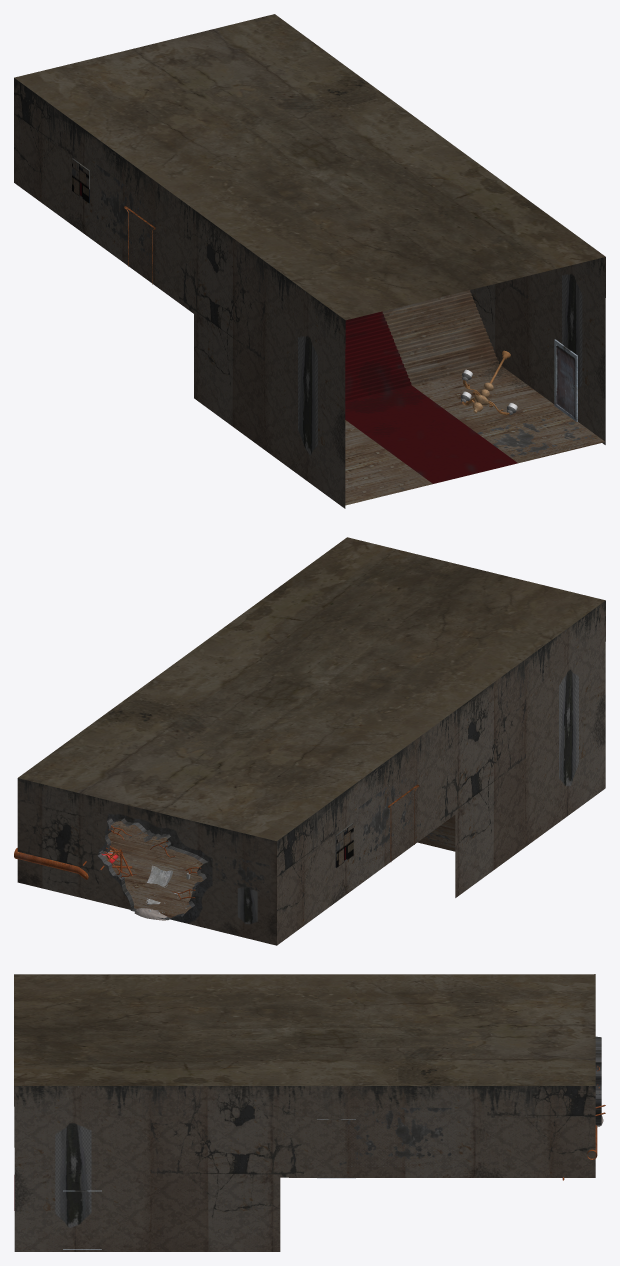
Rendered from ScenseVixod.FBX.
3 views of the same model, one above another, from view 1: azimuth 30°, elevation 25°; view 2: azimuth 150°, elevation 25°; view 3: azimuth 270°, elevation 25° (orthographic). The views are drawn at different scales.
Parts seen in each view (by area): view 1: Scense2, Kover and Dver, Lustra; view 2: Scense2, Gelezo Trubs, Musor; view 3: Scense2.
Boxes of the visible parts, box(x1,y1,x2,y2) form: Scense2: box(14, 14, 605, 508); Kover and Dver: box(554, 339, 577, 421); Lustra: box(460, 350, 517, 415); Scense2: box(17, 537, 605, 945); Gelezo Trubs: box(14, 825, 201, 899); Musor: box(103, 850, 186, 920); Scense2: box(14, 974, 601, 1251).
Bounding box in the file's own units: 49.43 × 33.42 × 108.
Materials: 8 (8 with a texture image).
